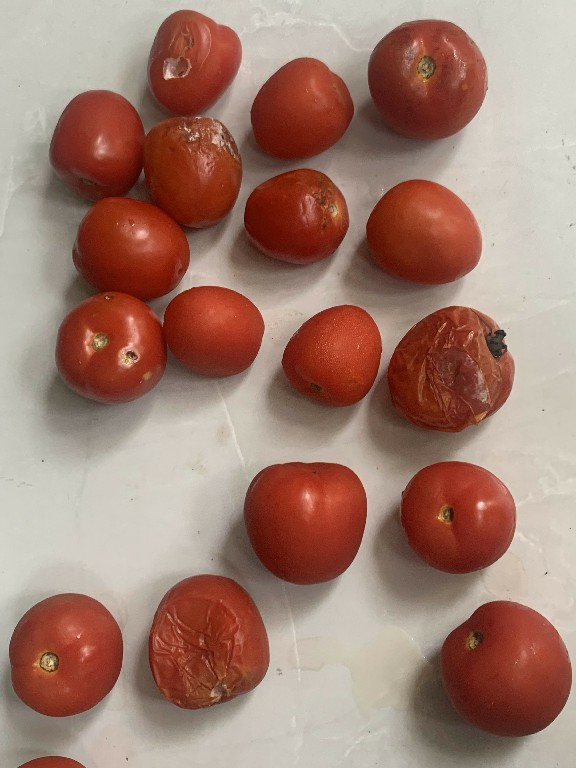NG: (384, 300, 527, 433), (142, 569, 273, 708), (55, 289, 170, 402), (140, 114, 241, 227), (238, 166, 352, 262), (146, 6, 243, 114)
OK: (436, 598, 575, 738), (245, 453, 372, 594), (359, 17, 491, 137), (6, 586, 120, 720), (401, 455, 521, 577), (70, 191, 194, 306), (364, 179, 486, 287), (278, 301, 380, 413), (244, 58, 352, 157), (49, 83, 140, 198), (163, 282, 270, 376)
